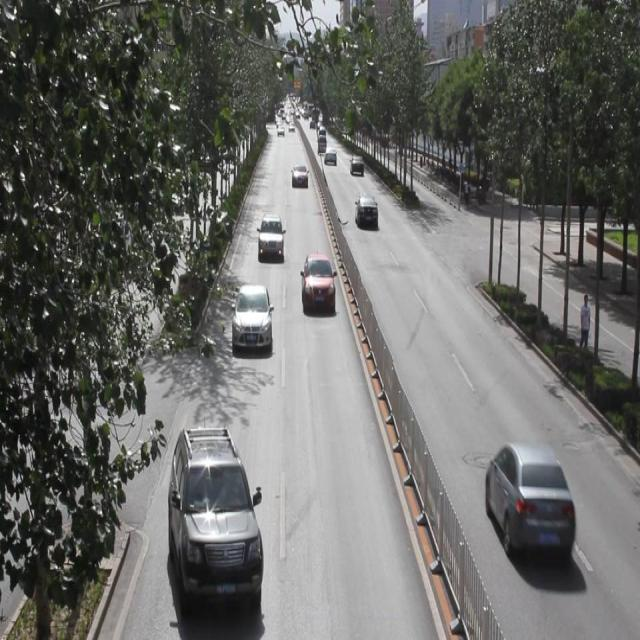car: (167, 426, 262, 606), (485, 441, 574, 560), (232, 283, 272, 351), (300, 253, 336, 312), (258, 214, 284, 258), (353, 194, 378, 229), (290, 163, 308, 187), (348, 153, 364, 175), (323, 144, 337, 164)
truck: (316, 133, 327, 154)
